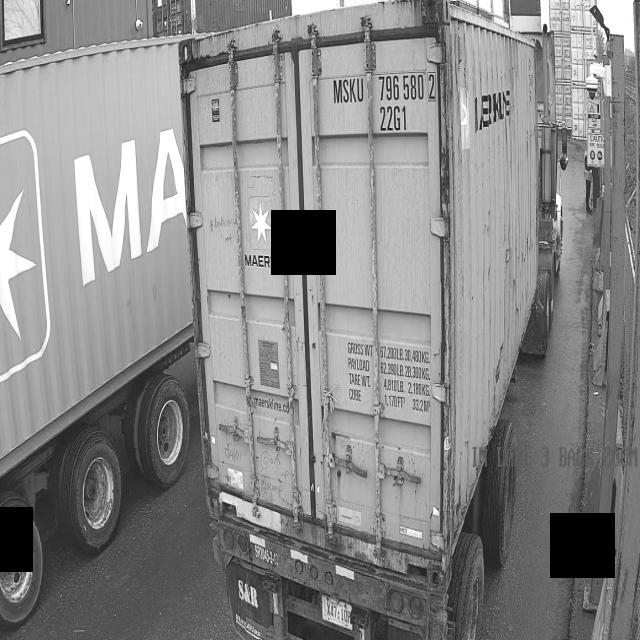container_company_logo: (243, 196, 280, 277)
container_number: (331, 74, 438, 136)
license_plate: (318, 597, 356, 630)
other_container_info: (344, 334, 431, 417)
truck_with_container: (181, 0, 568, 640), (0, 38, 193, 625)
